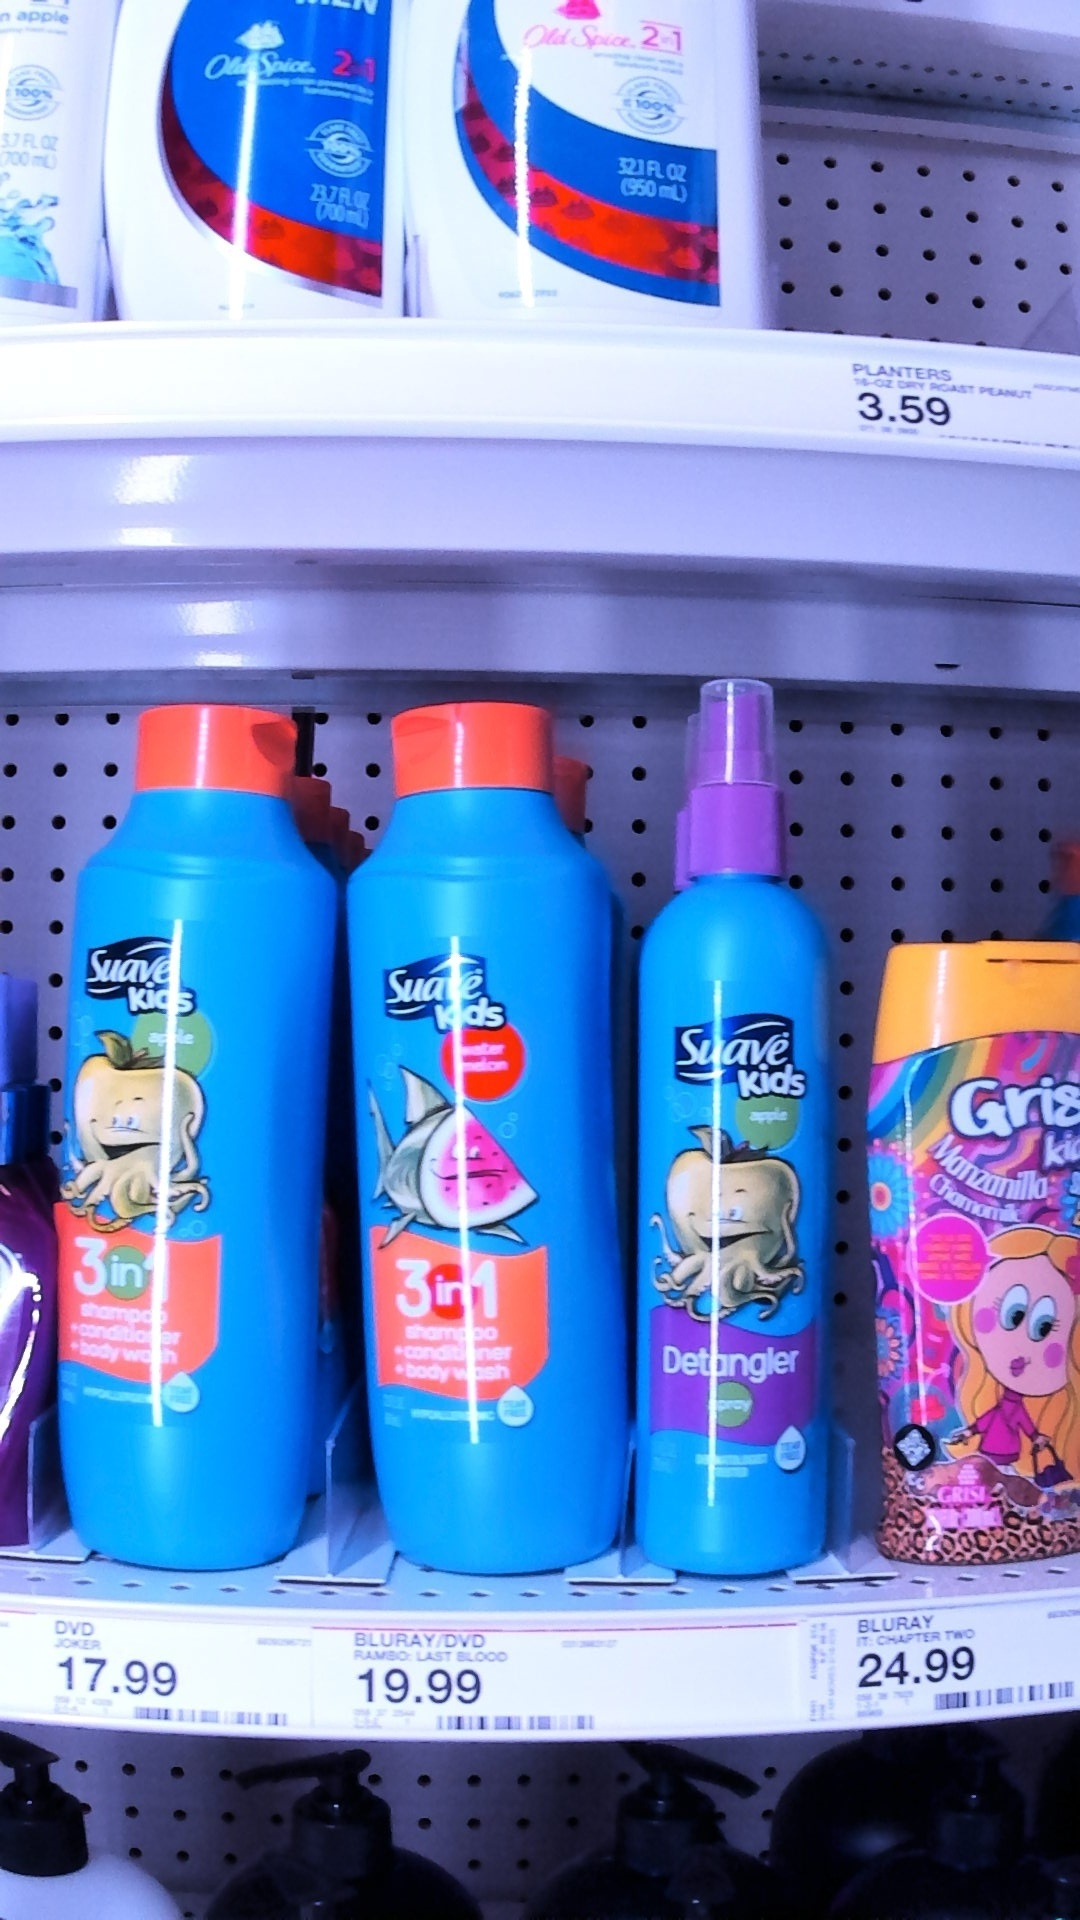ptag: (340, 1611, 615, 1749), (51, 1606, 291, 1737), (844, 340, 1080, 468), (844, 1609, 1080, 1714)
